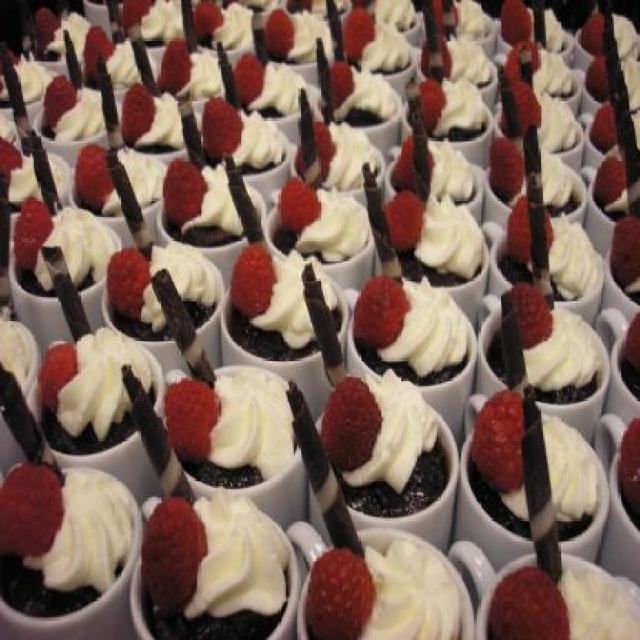Strawberry: (266, 161, 317, 230)
